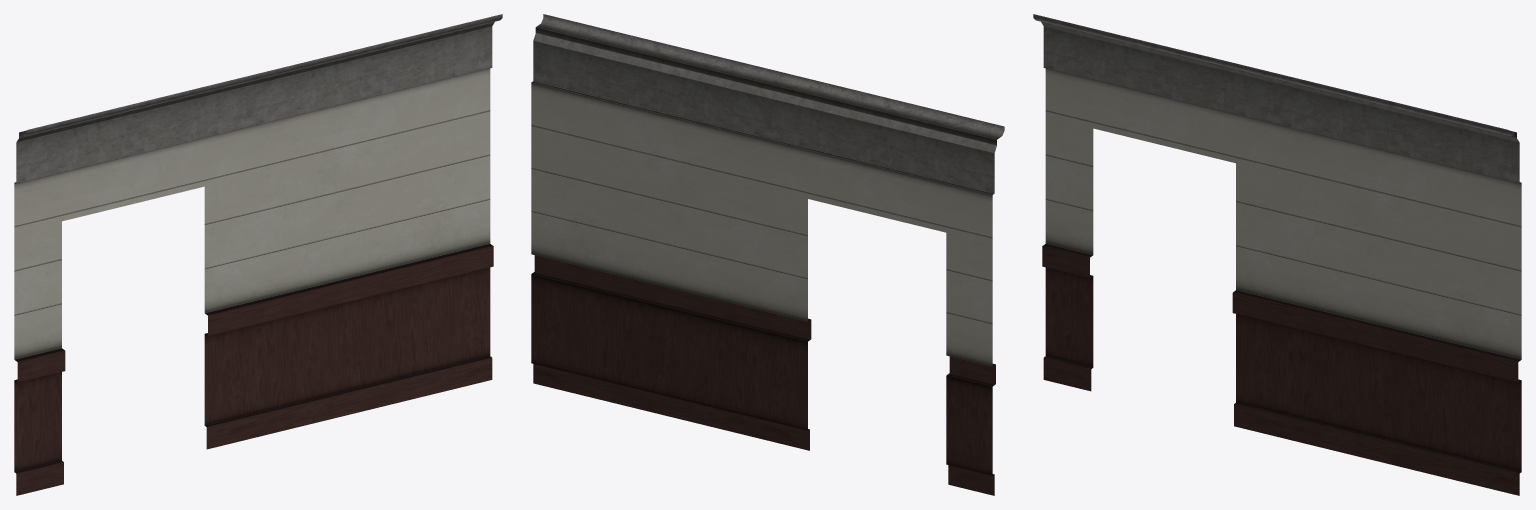
File: Wall 6 Door D.fbx
The picture shows the model from 3 angles, left to right: view 1: azimuth 30°, elevation 25°; view 2: azimuth 150°, elevation 25°; view 3: azimuth 330°, elevation 25°; orthographic projection. The views are drawn at different scales.
Parts seen in each view (by area): view 1: Wall_6_Door_D; view 2: Wall_6_Door_D; view 3: Wall_6_Door_D.
Boxes of the visible parts, x1,y1,x2,y2 form: Wall_6_Door_D: (14,14,502,495); Wall_6_Door_D: (531,14,1004,495); Wall_6_Door_D: (1033,14,1521,495).
Size of the model in its own units: 400 by 300 by 18.12.
